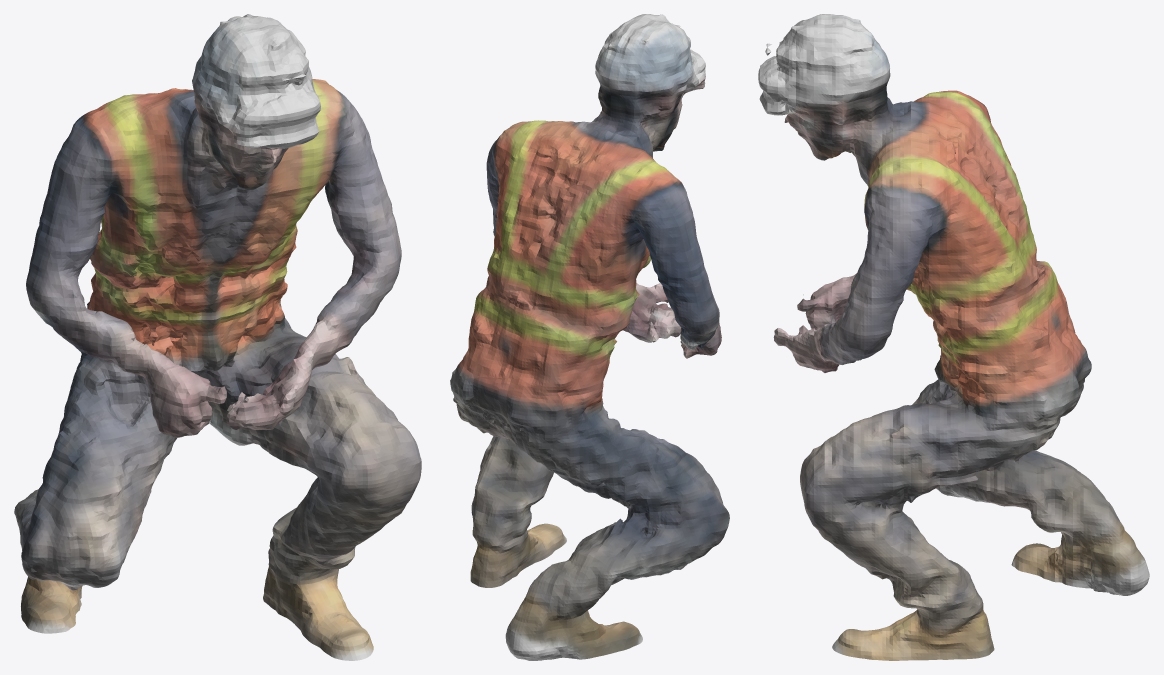
The model's file is standup_5.glb.
3 renders of one model, left to right at view 1: azimuth 30°, elevation 25°; view 2: azimuth 150°, elevation 25°; view 3: azimuth 270°, elevation 25°, orthographic. The views are drawn at different scales.
Parts seen in each view (by area): view 1: world; view 2: world; view 3: world.
Part boxes in pixels (x1,y1,x2,y2): world: (14, 14, 421, 660); world: (450, 14, 729, 660); world: (758, 14, 1149, 660).
Bounding box in the file's own units: 0.7277 × 1.4 × 0.8537.
